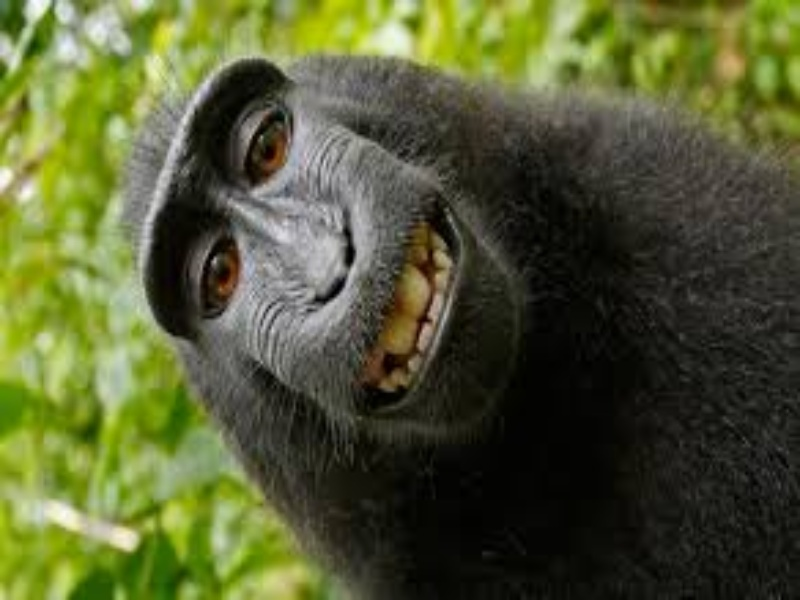monkey: (111, 35, 778, 585)
